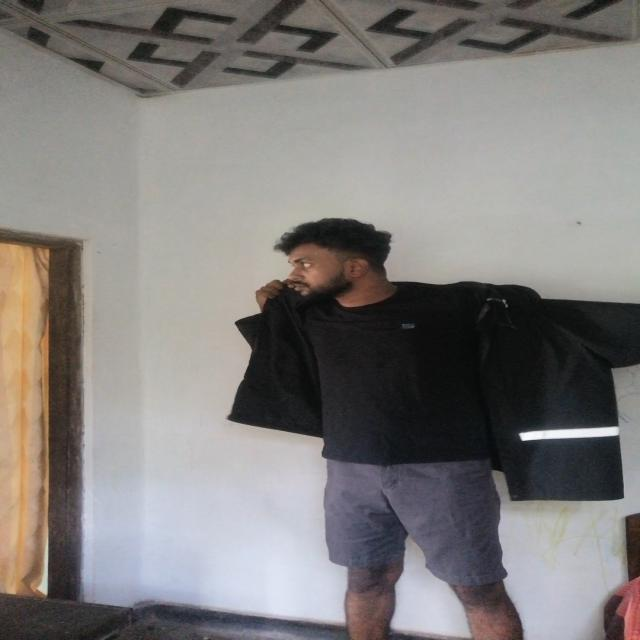Jacket_Wearer: (219, 281, 640, 483)
